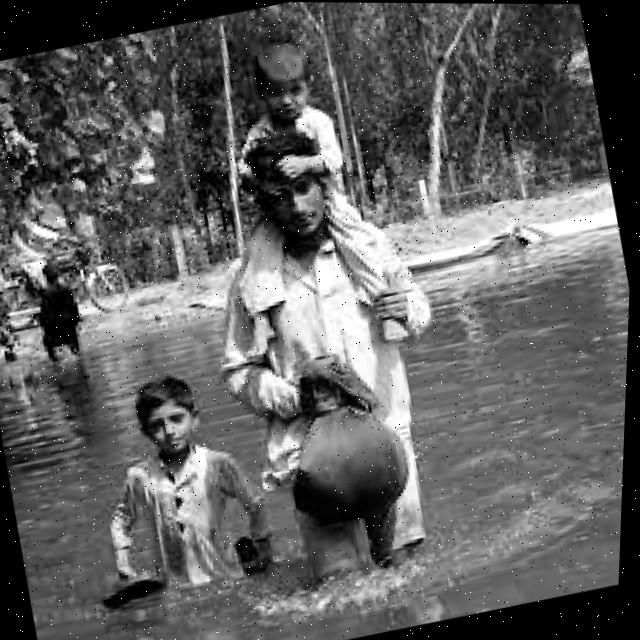civilian: (166, 94, 507, 637), (40, 337, 301, 640), (207, 9, 375, 225)
